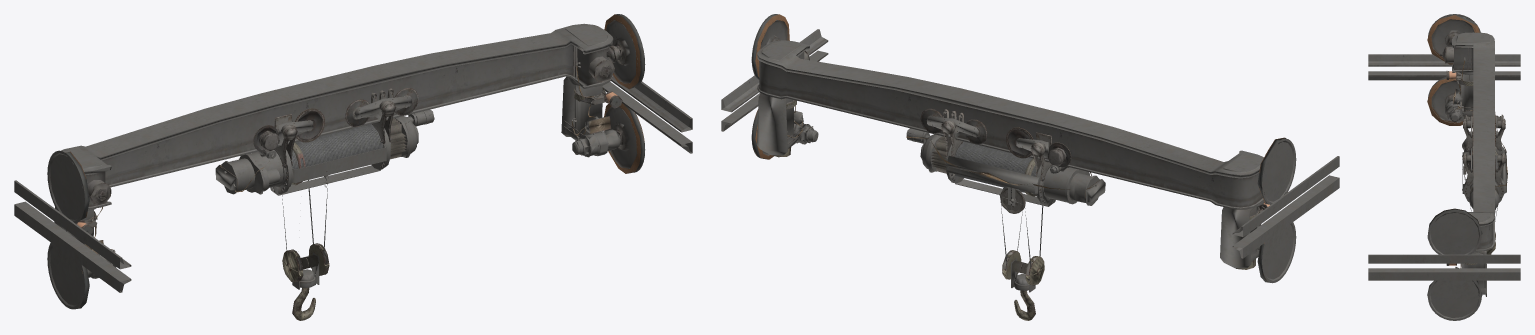
Rendered from overhead_crane.glb.
3 renders of one model, left to right at view 1: azimuth 30°, elevation 25°; view 2: azimuth 150°, elevation 25°; view 3: azimuth 270°, elevation 25°, orthographic. The views are drawn at different scales.
Visible parts, largest first — view 1: overhead_crane, overhead_crane_winch, overhead_crane_rails; view 2: overhead_crane, overhead_crane_winch, overhead_crane_rails; view 3: overhead_crane, overhead_crane_rails, overhead_crane_winch.
Boxes of the visible parts, x1,y1,x2,y2 form: overhead_crane: (47,14,645,309); overhead_crane_winch: (215,88,434,320); overhead_crane_rails: (14,76,692,292); overhead_crane: (751,14,1296,283); overhead_crane_winch: (906,108,1105,320); overhead_crane_rails: (721,29,1339,258); overhead_crane: (1427,14,1494,320); overhead_crane_rails: (1368,54,1520,280); overhead_crane_winch: (1462,112,1507,254).
Bounding box in the file's own units: 12.49 × 5.12 × 4.
2 materials, 2 textured.
